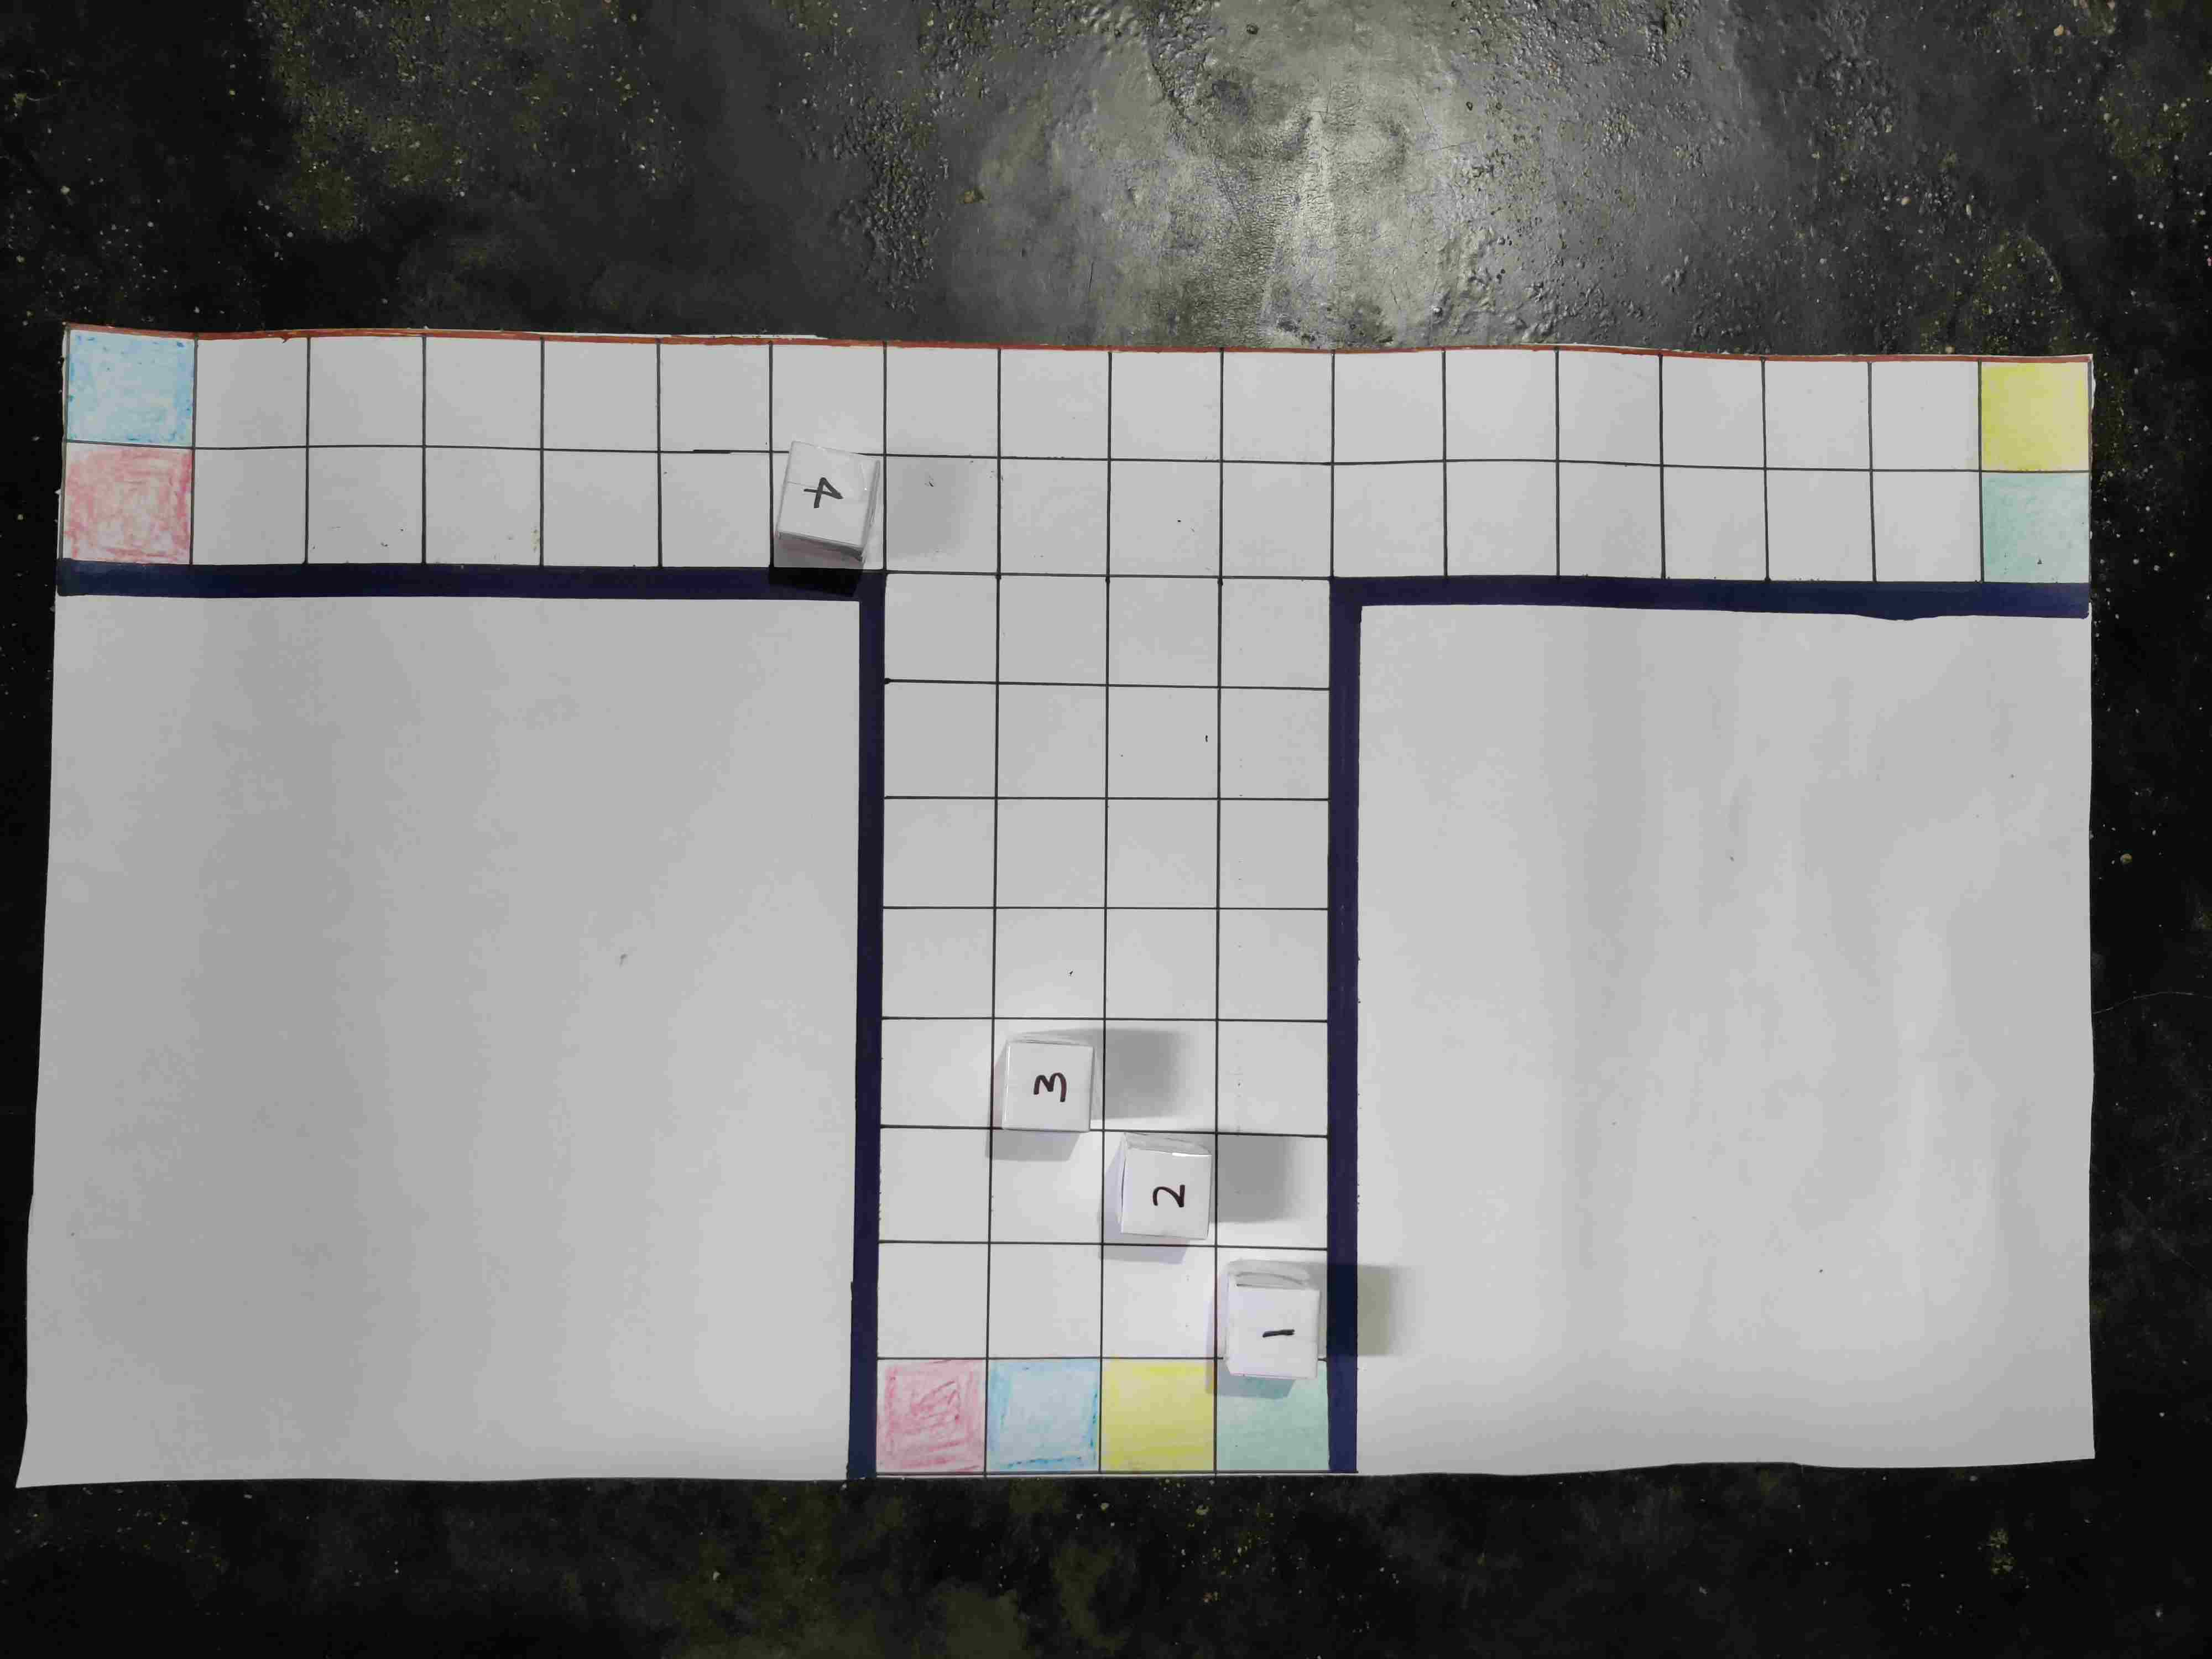arena: (317, 159, 2158, 1175)
bot: (1148, 875, 1228, 962), (951, 990, 1024, 1077), (1991, 971, 2066, 1049), (1252, 380, 1325, 458)
